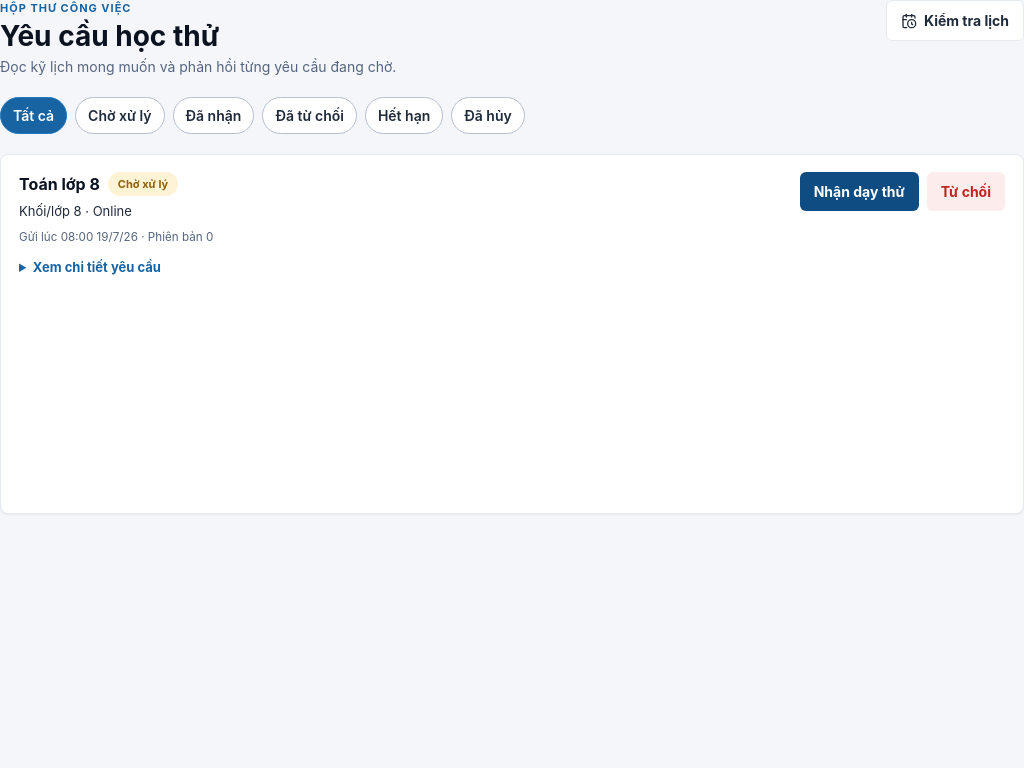
Test case: TrialsPage › validates and trims the decline reason before submitting
Click the button "Từ chối": [966, 191] box top-left (927, 172), bottom-right (1005, 210)
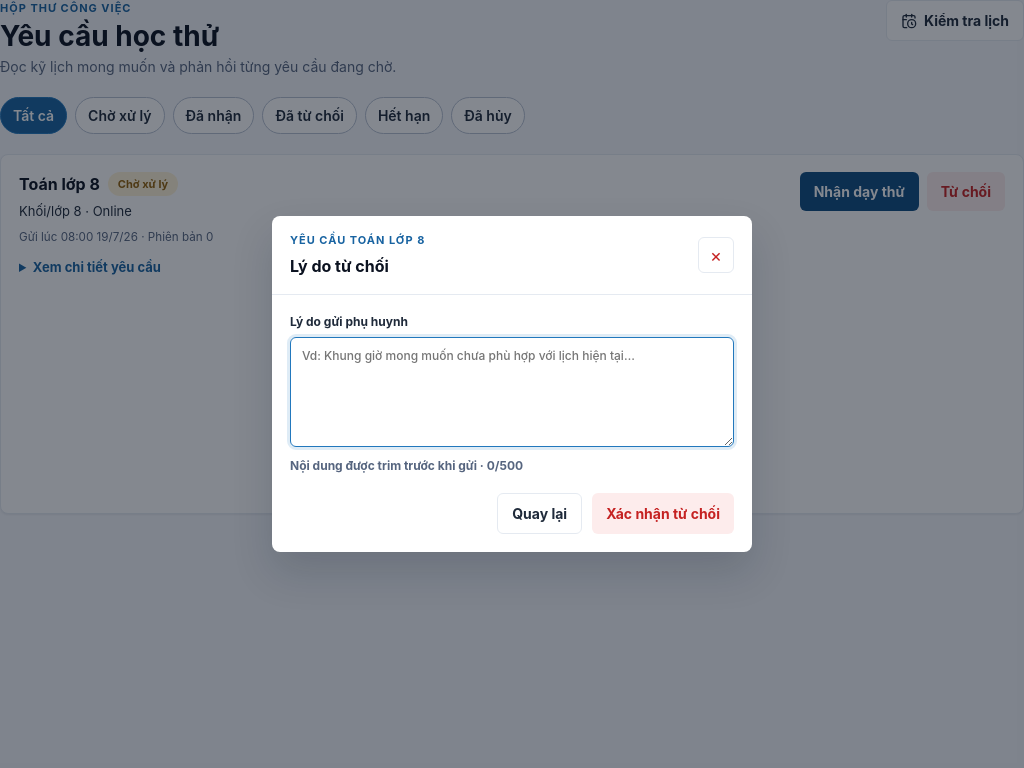
Click the button "Xác nhận từ chối": [663, 514] box top-left (592, 493), bottom-right (734, 534)
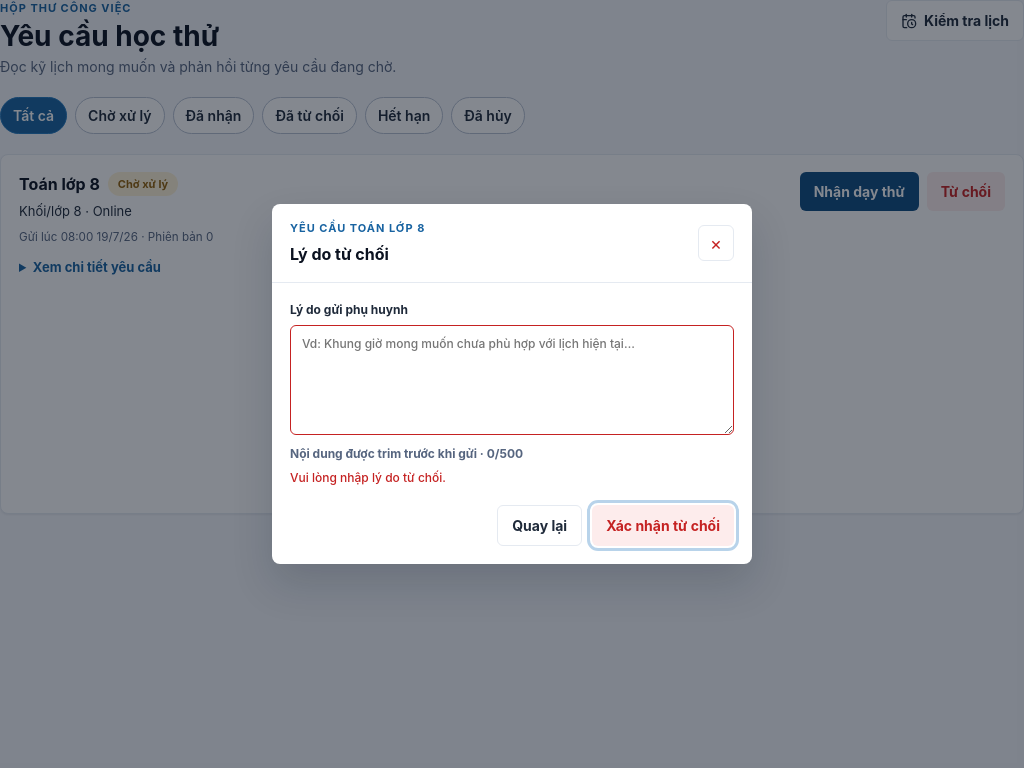
Now the text "Vui lòng nhập lý do từ chối." is shown, box top-left (290, 470), bottom-right (446, 485)
In the text box labelled "Lý do gửi phụ huynh": [512, 380] box top-left (290, 325), bottom-right (734, 435), type "  Trùng lịch  "
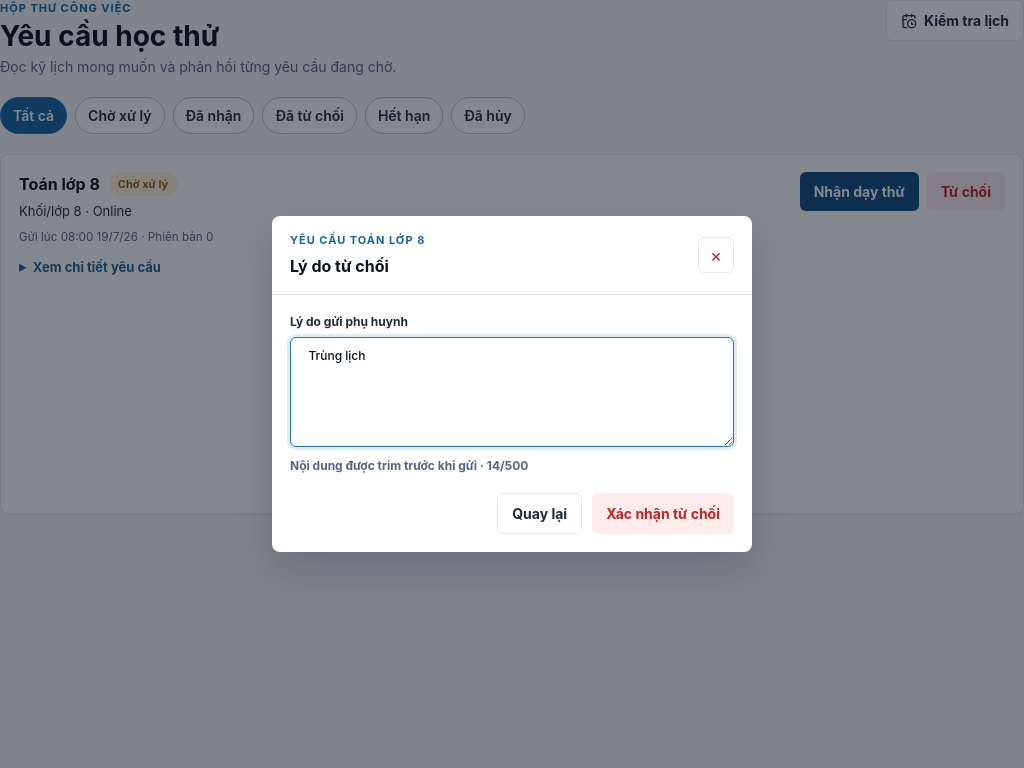
Click the button "Xác nhận từ chối": [663, 514] box top-left (592, 493), bottom-right (734, 534)
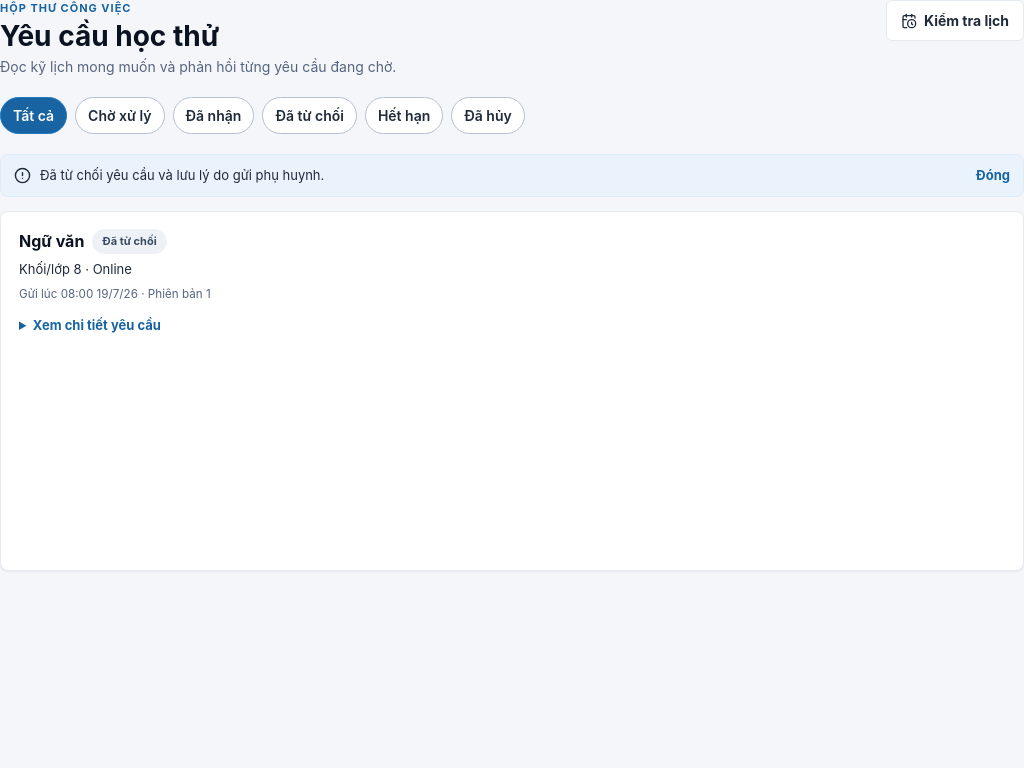
Now the text "Đã từ chối yêu cầu và lưu lý do gửi phụ huynh." is shown, box top-left (40, 166), bottom-right (324, 182)
